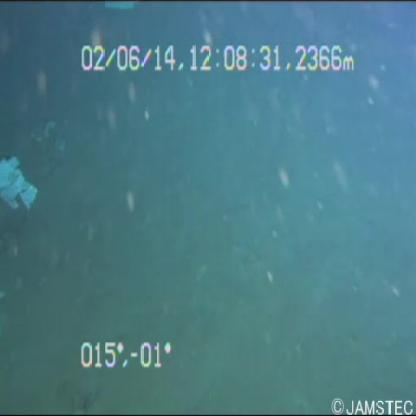Rác: (1, 142, 39, 220)
